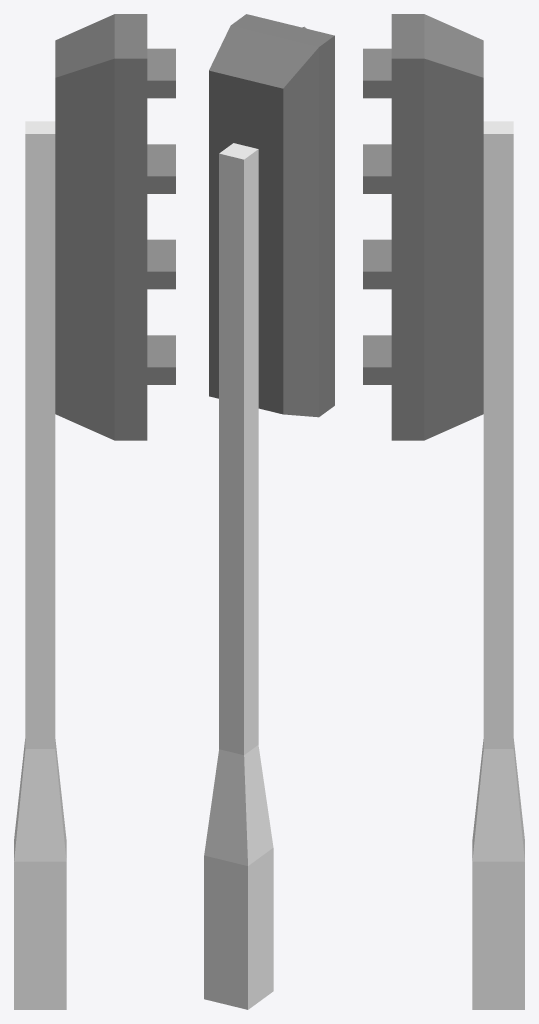
File: lightRed.glb
The picture shows the model from 3 angles, left to right: view 1: azimuth 90°, elevation 25°; view 2: azimuth 150°, elevation 25°; view 3: azimuth 270°, elevation 25°; orthographic projection. The views are drawn at different scales.
Parts seen in each view (by area): view 1: lightRed(Clone); view 2: lightRed(Clone); view 3: lightRed(Clone).
Boxes of the visible parts, x1,y1,x2,y2 form: lightRed(Clone): (14, 14, 175, 1009); lightRed(Clone): (204, 14, 334, 1009); lightRed(Clone): (363, 14, 524, 1009).
Bounding box in the file's own units: 0.0708 × 0.7134 × 0.1087.
1 material, 1 textured.
